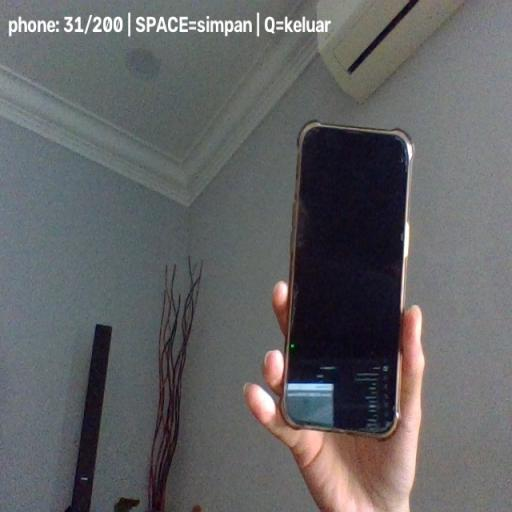Phone: (280, 120, 414, 440)
